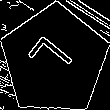L_SE: (26, 32, 82, 88)
